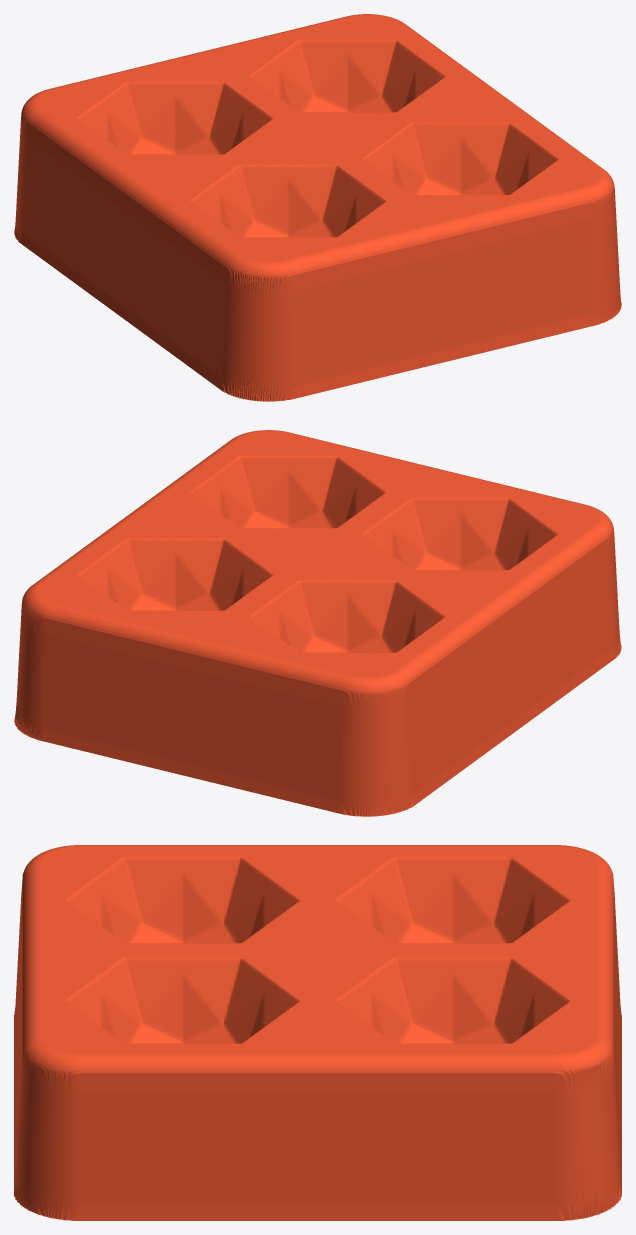
The model's file is mold.glb.
3 renders of one model, top to bottom at view 1: azimuth 30°, elevation 25°; view 2: azimuth 150°, elevation 25°; view 3: azimuth 270°, elevation 25°, orthographic. The views are drawn at different scales.
Visible parts, largest first — view 1: geometry_0; view 2: geometry_0; view 3: geometry_0.
Part boxes in pixels (x1,y1,x2,y2): geometry_0: (14,14,621,401); geometry_0: (14,430,621,816); geometry_0: (14,845,621,1220).
Size of the model in its own units: 0.074 by 0.0234 by 0.0828.
